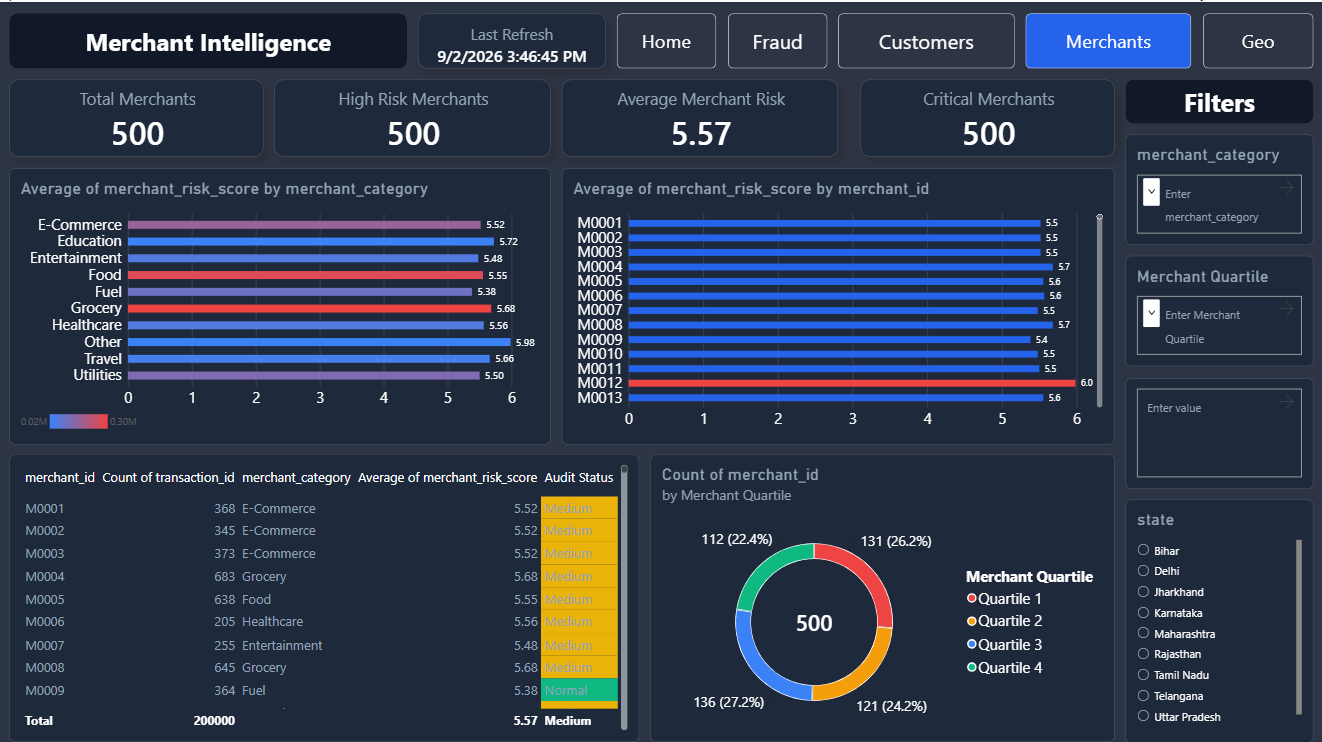

The dashboard page shown, as its layout file describes it:
{"tool":"powerbi","page":{"name":"Merchant Intelligence","canvas":[1920,1080],"ordinal":3},"visuals":[{"type":"shape","title":"02_Dashboard_Title","box":[16,16,576,80],"z":0},{"type":"cardVisual","title":"04_Last_Refresh","fields":{"Data":["Measures (4).Last Refresh"]},"box":[608,16,272,80],"z":1000},{"type":"actionButton","title":"30_Nav_Home","box":[896,16,144,80],"z":2000},{"type":"actionButton","title":"31_Nav_Fraud","box":[1056,16,144,80],"z":3000},{"type":"actionButton","title":"32_Nav_Customer","box":[1216,16,256,80],"z":4000},{"type":"actionButton","title":"33_Nav_Merchant","box":[1488,16,240,80],"z":5000},{"type":"actionButton","title":"34_Nav_Geo","box":[1744,16,160,80],"z":6000},{"type":"cardVisual","fields":{"Data":["Measures (4).Total Merchants"]},"box":[16,112,368,112],"z":7000},{"type":"cardVisual","fields":{"Data":["Measures (4).High Risk Merchants"]},"box":[400,112,400,112],"z":8000},{"type":"cardVisual","fields":{"Data":["Measures (4).Average Merchant Risk"]},"box":[816,112,400,112],"z":9000},{"type":"cardVisual","fields":{"Data":["Measures (4).Critical Merchants"]},"box":[1248,112,368,112],"z":10000},{"type":"clusteredBarChart","fields":{"Category":["transactions.merchant_category"],"Y":["Avg(transactions.merchant_risk_score)"]},"box":[16,240,784,400],"z":11000},{"type":"barChart","fields":{"Category":["transactions.merchant_id"],"Y":["Avg(transactions.merchant_risk_score)"]},"box":[816,240,800,400],"z":12000},{"type":"tableEx","fields":{"Values":["transactions.merchant_id","transactions.transaction_id","transactions.merchant_category","Avg(transactions.merchant_risk_score)","Measures (4).Audit Status"]},"box":[16,656,912,416],"z":13000},{"type":"donutChart","fields":{"Y":["Count(transactions.merchant_id)"],"Category":["Merchant Quartiles Table.Merchant Quartile"]},"box":[944,656,672,416],"z":14000},{"type":"shape","title":"02_Dashboard_Title","box":[1632,112,272,64],"z":15000},{"type":"textSlicer","fields":{"Values":["transactions.merchant_category"]},"box":[1632,192,272,160],"z":16000},{"type":"textSlicer","fields":{"Values":["Merchant Quartiles Table.Merchant Quartile"]},"box":[1632,368,272,160],"z":17000},{"type":"textSlicer","box":[1632,544,272,160],"z":19000},{"type":"listSlicer","fields":{"Values":["transactions.state"]},"box":[1632,720,272,352],"z":19001}]}

Visuals, with their boxes in screenshot pixels (x1, y1, x2, y2), scaled from the page's 1920x1080 canvas onto the 1322x742 screenshot:
"02_Dashboard_Title" shape: bbox=[11, 11, 408, 66]
"04_Last_Refresh" cardVisual: bbox=[419, 11, 606, 66]
"30_Nav_Home" actionButton: bbox=[617, 11, 716, 66]
"31_Nav_Fraud" actionButton: bbox=[727, 11, 826, 66]
"32_Nav_Customer" actionButton: bbox=[837, 11, 1014, 66]
"33_Nav_Merchant" actionButton: bbox=[1025, 11, 1190, 66]
"34_Nav_Geo" actionButton: bbox=[1201, 11, 1311, 66]
cardVisual - Measures (4).Total Merchants: bbox=[11, 77, 264, 154]
cardVisual - Measures (4).High Risk Merchants: bbox=[275, 77, 551, 154]
cardVisual - Measures (4).Average Merchant Risk: bbox=[562, 77, 837, 154]
cardVisual - Measures (4).Critical Merchants: bbox=[859, 77, 1113, 154]
clusteredBarChart - transactions.merchant_category x Avg(transactions.merchant_risk_score): bbox=[11, 165, 551, 440]
barChart - transactions.merchant_id x Avg(transactions.merchant_risk_score): bbox=[562, 165, 1113, 440]
tableEx - transactions.merchant_id x transactions.transaction_id: bbox=[11, 451, 639, 737]
donutChart - Count(transactions.merchant_id) x Merchant Quartiles Table.Merchant Quartile: bbox=[650, 451, 1113, 737]
"02_Dashboard_Title" shape: bbox=[1124, 77, 1311, 121]
textSlicer - transactions.merchant_category: bbox=[1124, 132, 1311, 242]
textSlicer - Merchant Quartiles Table.Merchant Quartile: bbox=[1124, 253, 1311, 363]
textSlicer: bbox=[1124, 374, 1311, 484]
listSlicer - transactions.state: bbox=[1124, 495, 1311, 737]
